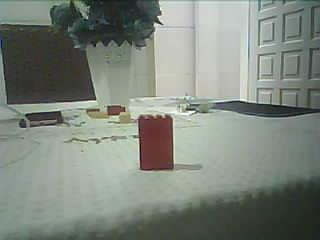lego: (136, 113, 177, 174), (84, 107, 106, 118), (107, 104, 124, 116), (118, 112, 131, 123)
